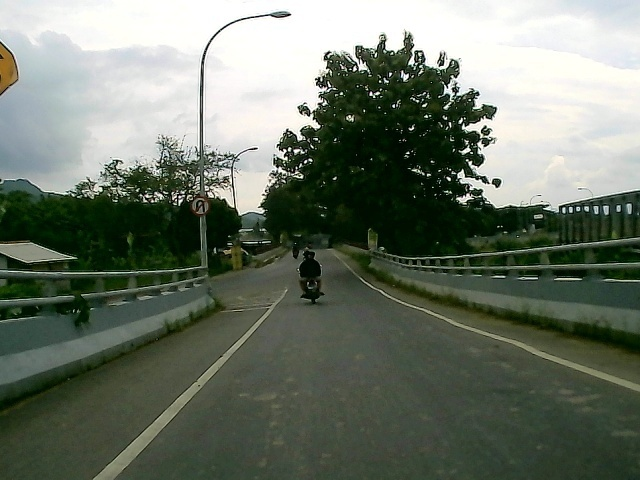Dilarang berbalik arah: (188, 196, 211, 219)
